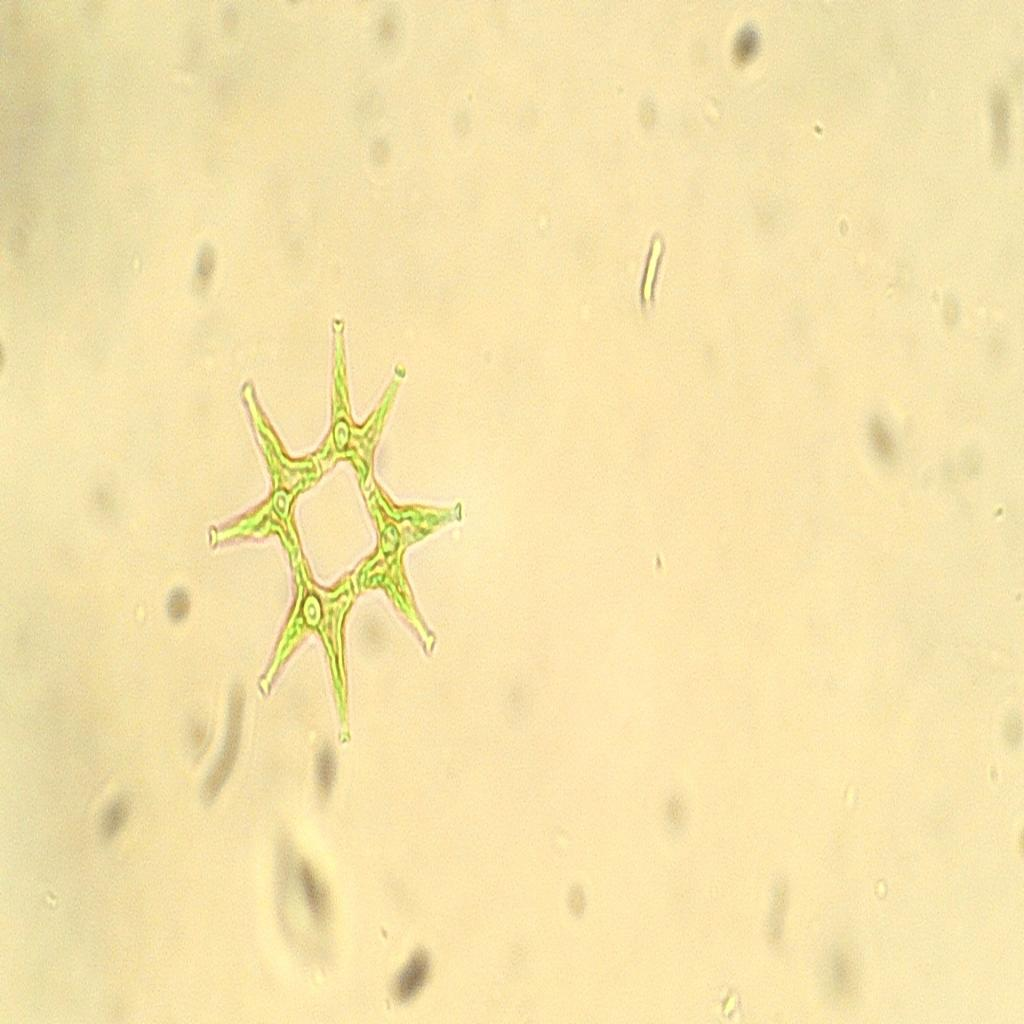Pediastrum_CO: (197, 286, 485, 768)
